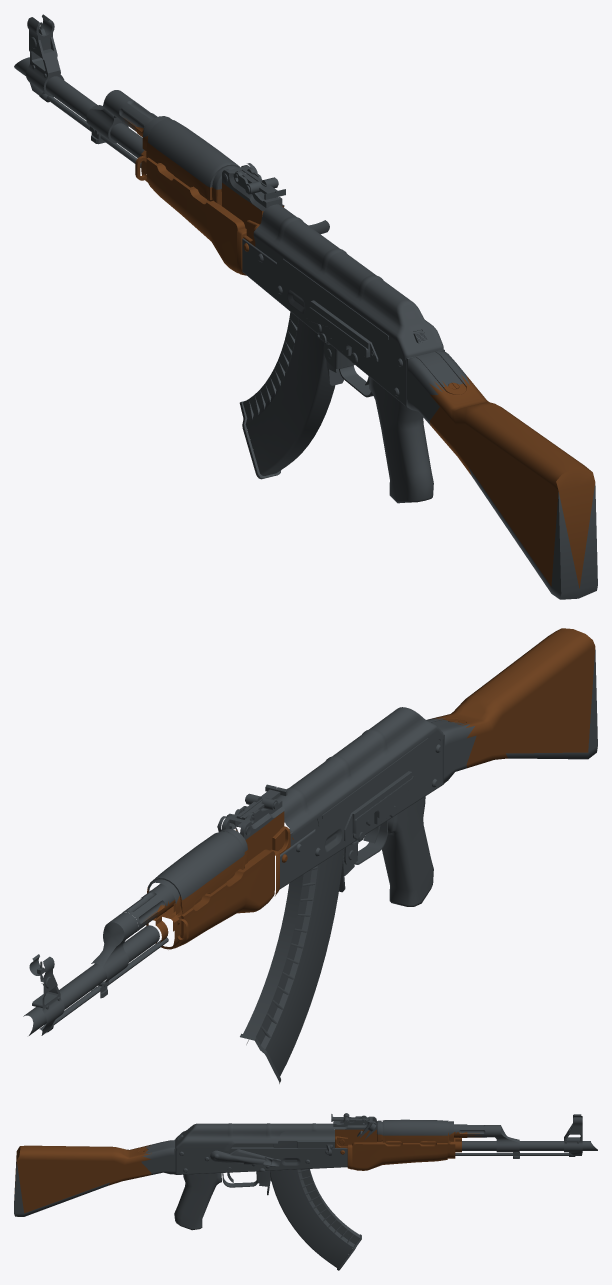
3 views of the same model, one above another, from view 1: azimuth 30°, elevation 25°; view 2: azimuth 150°, elevation 25°; view 3: azimuth 270°, elevation 25° (orthographic). The views are drawn at different scales.
Parts seen in each view (by area): view 1: receiver, magazine; view 2: receiver, magazine; view 3: receiver, magazine.
Part boxes in pixels (x1=…): receiver: x1=14, y1=14, x2=597, y2=599; magazine: x1=239, y1=312, x2=335, y2=479; receiver: x1=23, y1=628, x2=597, y2=1037; magazine: x1=240, y1=849, x2=343, y2=1083; receiver: x1=14, y1=1113, x2=597, y2=1243; magazine: x1=270, y1=1169, x2=361, y2=1270.
Size of the model in its own units: 0.0752 by 0.2746 by 0.95.
